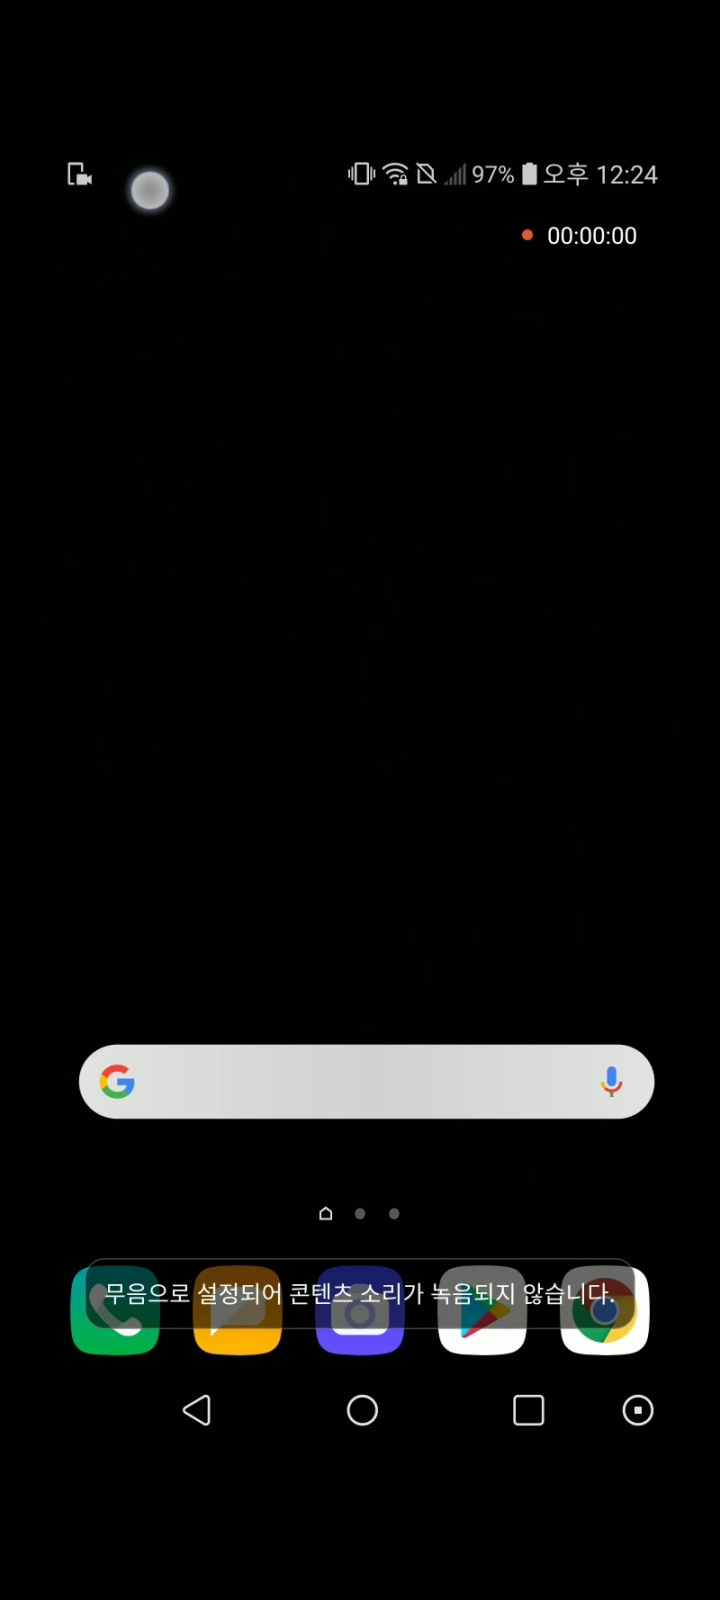Cursor: (128, 168, 174, 214)
